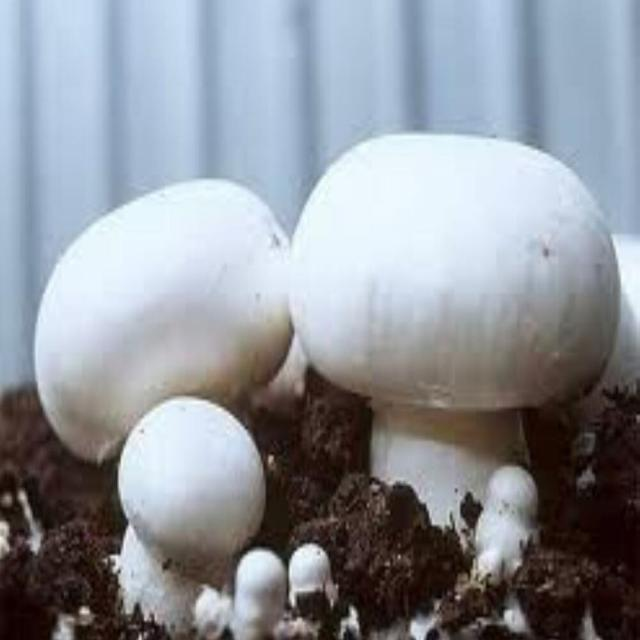Agaricus bisporus: (292, 132, 622, 528), (32, 183, 298, 462), (114, 396, 264, 623)
